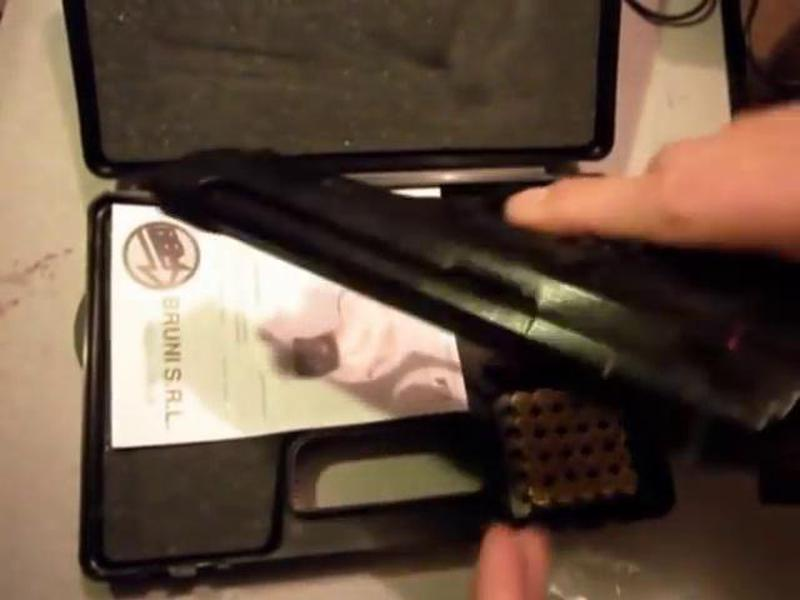Pistola: (127, 116, 800, 538)
